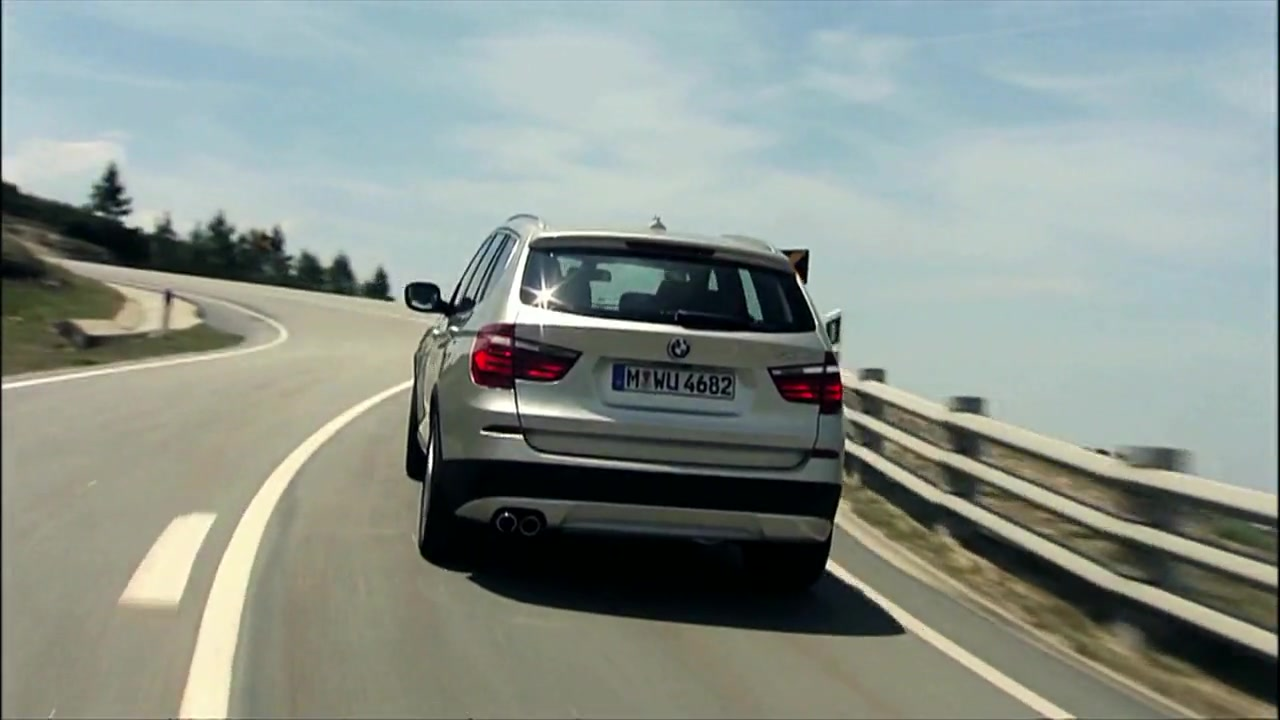car: (396, 211, 856, 594)
